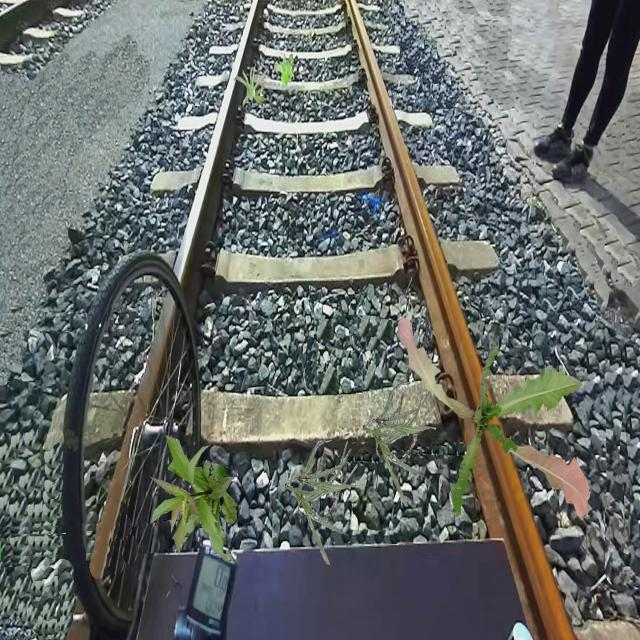Plant: (398, 317, 590, 520), (149, 435, 238, 565), (363, 382, 436, 506), (285, 440, 358, 564), (234, 63, 266, 109), (274, 54, 294, 87)
